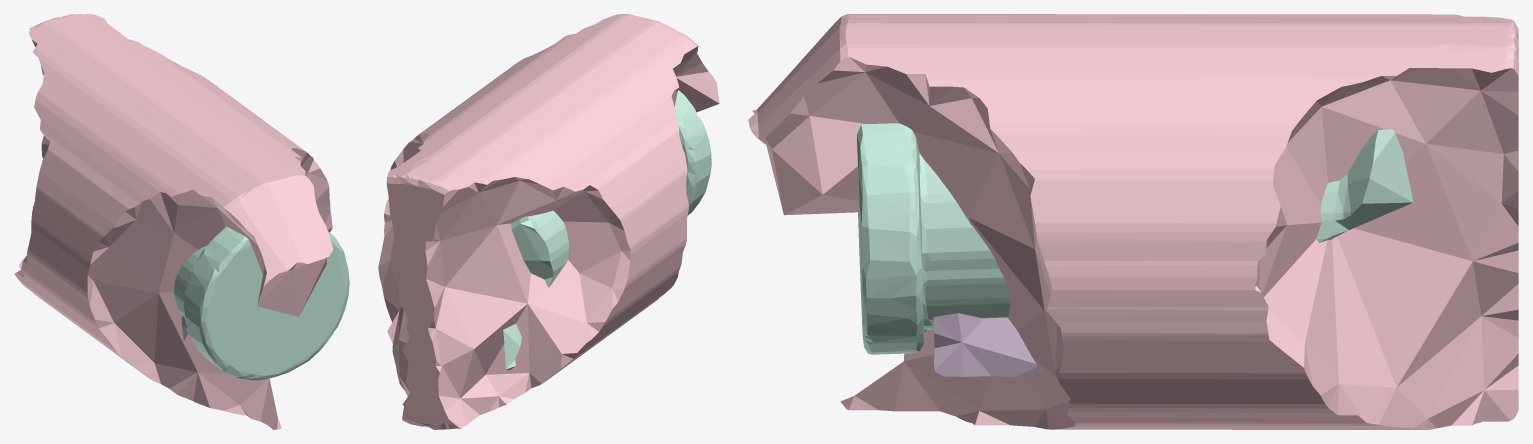
Rendered from view_input_colored.glb.
The picture shows the model from 3 angles, left to right: view 1: azimuth 30°, elevation 25°; view 2: azimuth 150°, elevation 25°; view 3: azimuth 270°, elevation 25°; orthographic projection. The views are drawn at different scales.
Visible parts, largest first — view 1: world; view 2: world; view 3: world.
Boxes of the visible parts, x1=… form: world: x1=14, y1=14, x2=349, y2=429; world: x1=378, y1=14, x2=719, y2=429; world: x1=748, y1=14, x2=1518, y2=429.
Size of the model in its own units: 0.3349 by 0.3355 by 0.6248.
